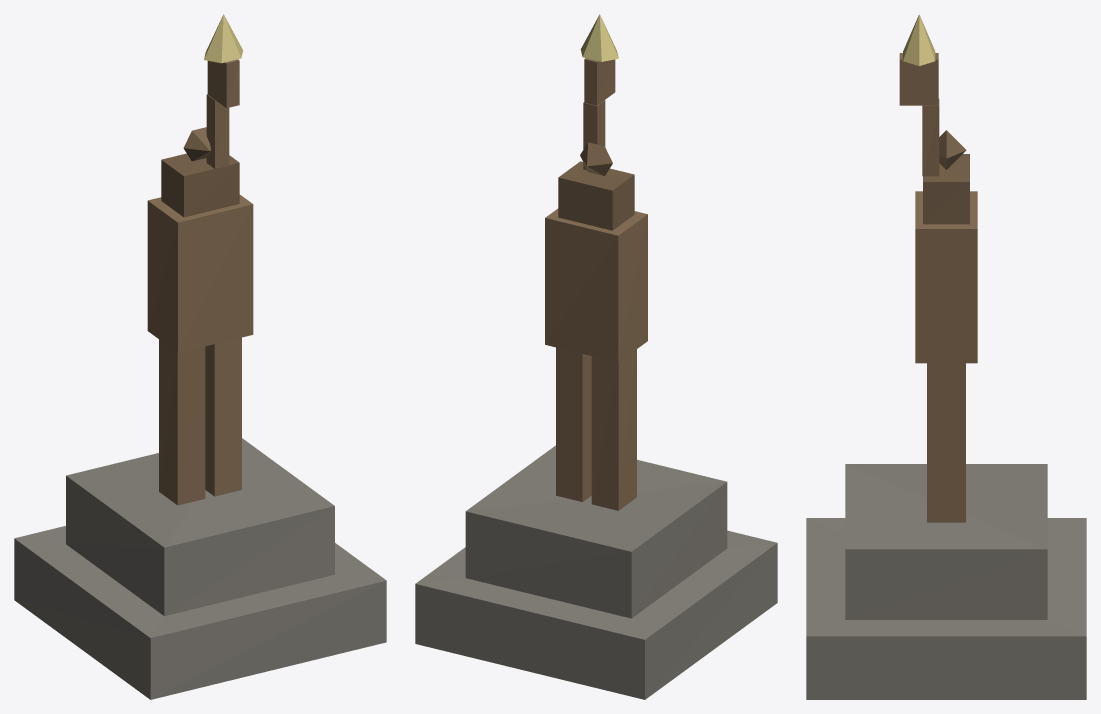
Rendered from prometheus.glb.
3 renders of one model, left to right at view 1: azimuth 30°, elevation 25°; view 2: azimuth 150°, elevation 25°; view 3: azimuth 270°, elevation 25°, orthographic. The views are drawn at different scales.
Visible parts, largest first — view 1: Prometheus; view 2: Prometheus; view 3: Prometheus.
Part boxes in pixels (x1=…): Prometheus: x1=14, y1=14, x2=386, y2=699; Prometheus: x1=415, y1=14, x2=777, y2=699; Prometheus: x1=806, y1=14, x2=1086, y2=699.
Bounding box in the file's own units: 3.6 × 8.95 × 3.6.
